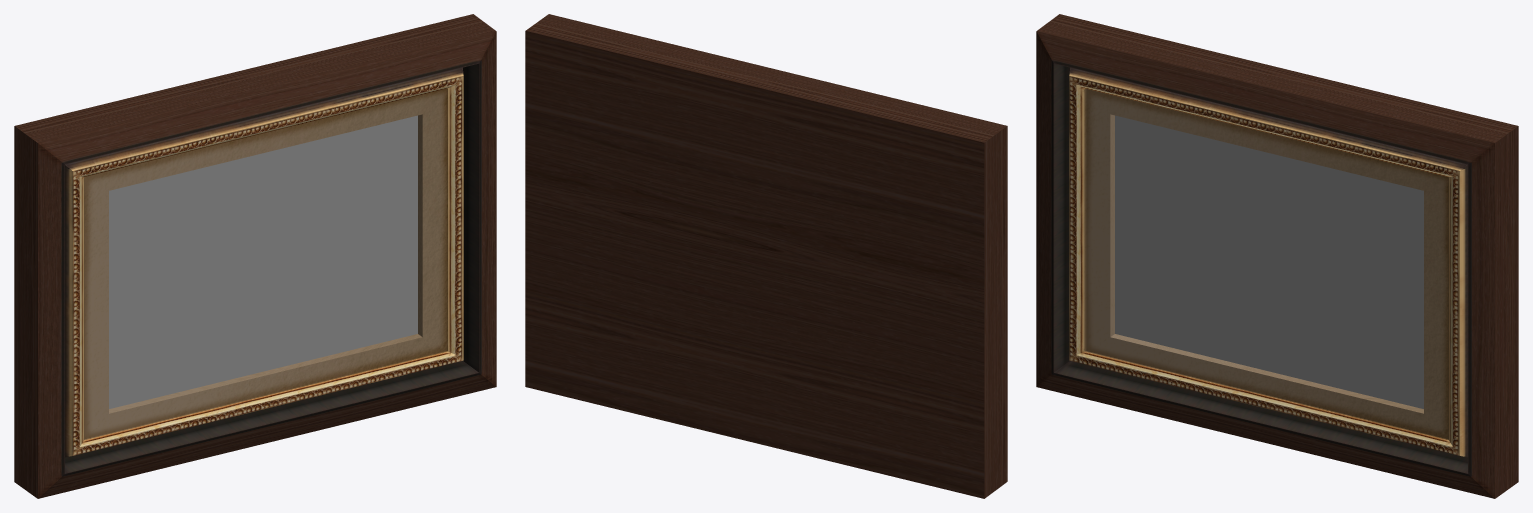
Rendered from Frame2.FBX.
3 renders of one model, left to right at view 1: azimuth 30°, elevation 25°; view 2: azimuth 150°, elevation 25°; view 3: azimuth 330°, elevation 25°, orthographic.
Visible parts, largest first — view 1: Frame2; view 2: Frame2; view 3: Frame2.
Boxes of the visible parts, x1=… form: Frame2: x1=14, y1=14, x2=496, y2=498; Frame2: x1=525, y1=14, x2=1007, y2=498; Frame2: x1=1036, y1=14, x2=1518, y2=498.
Bounding box in the file's own units: 194 × 144 × 20.58.
